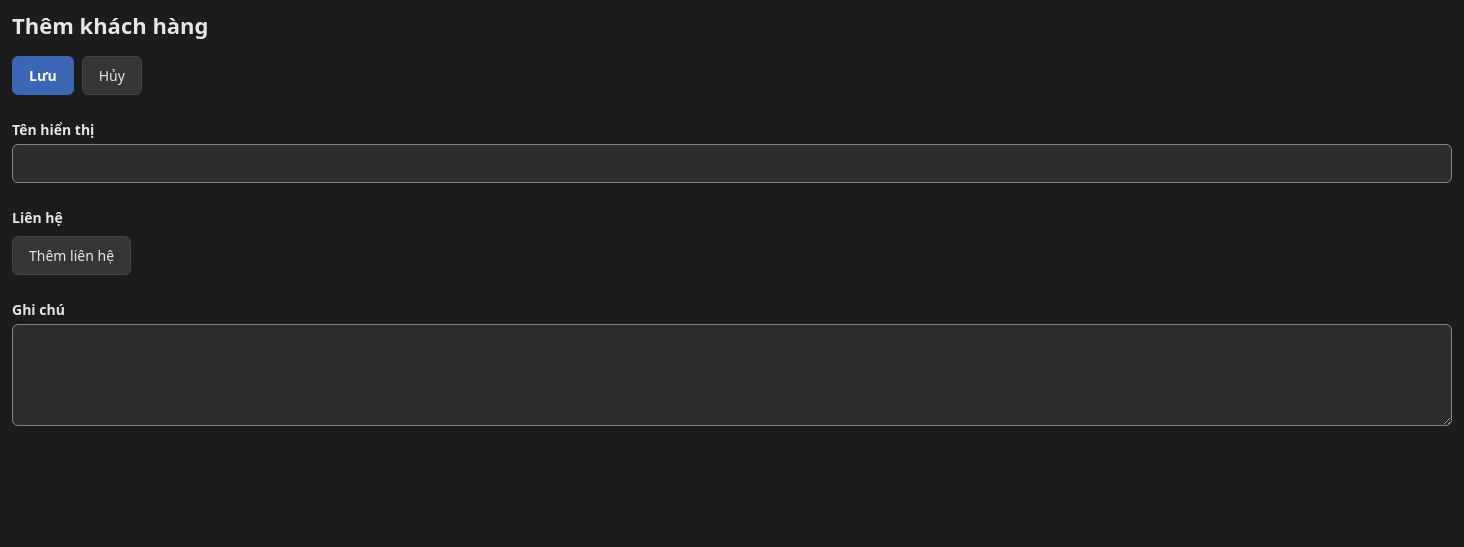
page client_form — saving (saveClient) › rejected system 500 ERR_STORAGE_IO → one message at the top, no field error, the draft kept
The width and height of the screenshot is (1464, 547).
Type "Tên mới" into the field labelled "Tên hiển thị" at (732, 163), box 12,144 -> 1452,182
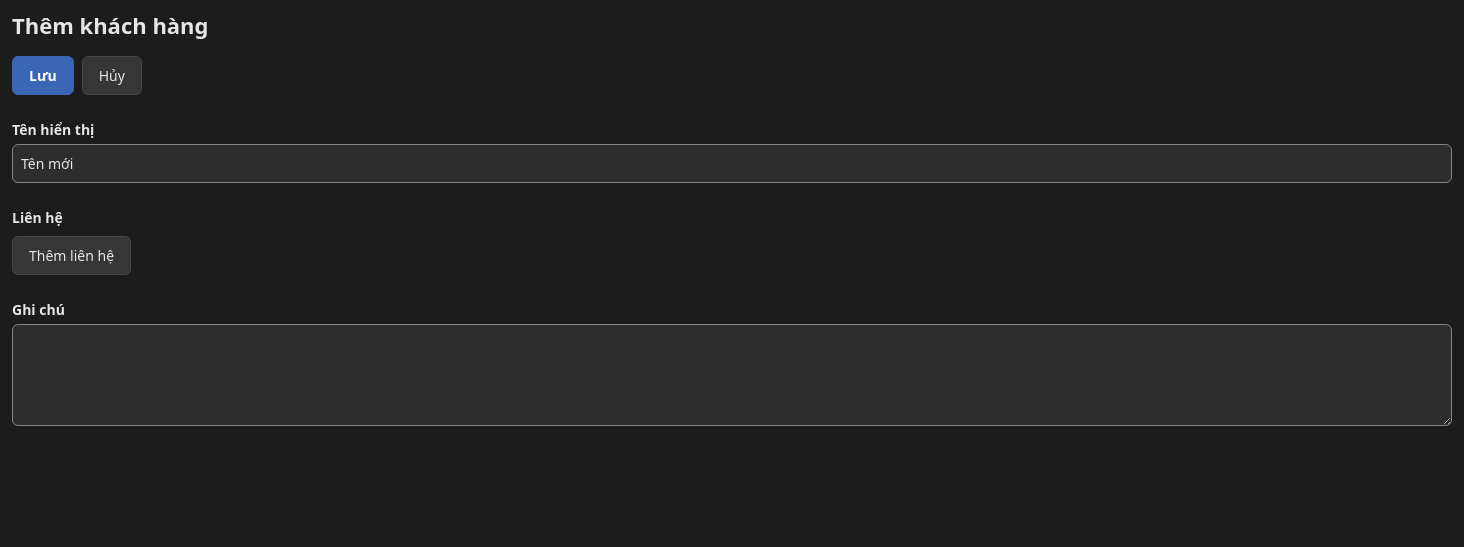
Click the button "Lưu" at (43, 75), box 12,56 -> 74,94
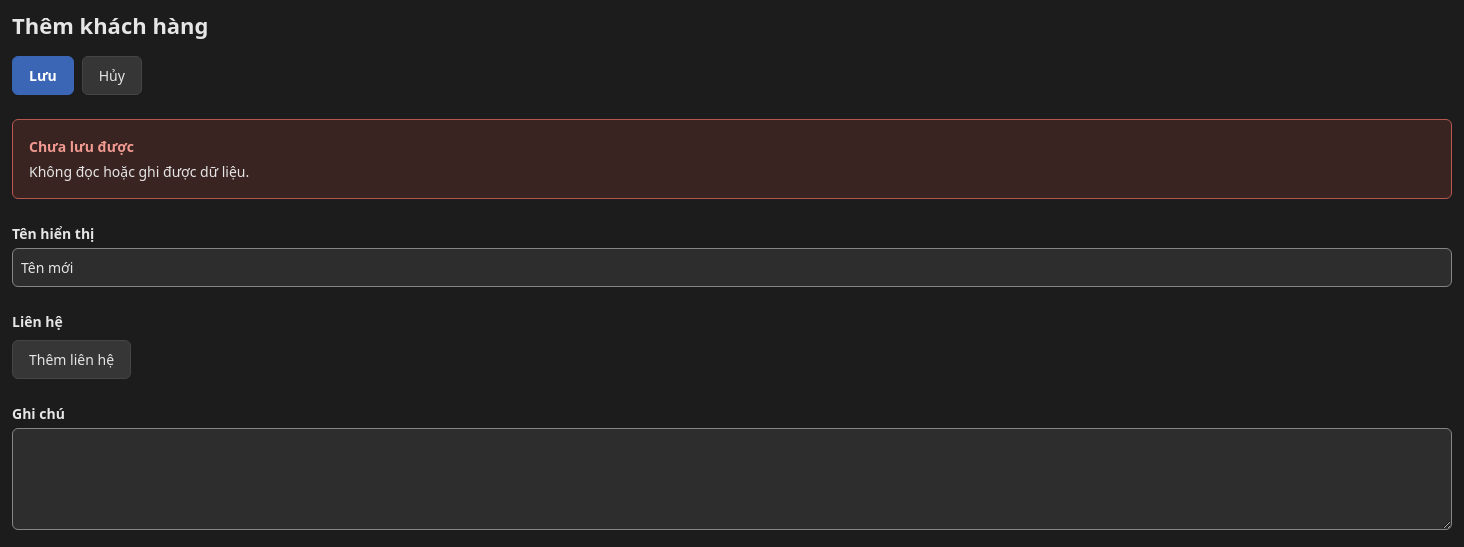
expect the message shows "Chưa lưu được": met, box 29,136 -> 134,156
expect the message shows "Không đọc hoặc ghi được dữ liệu.": met, box 29,162 -> 249,180
